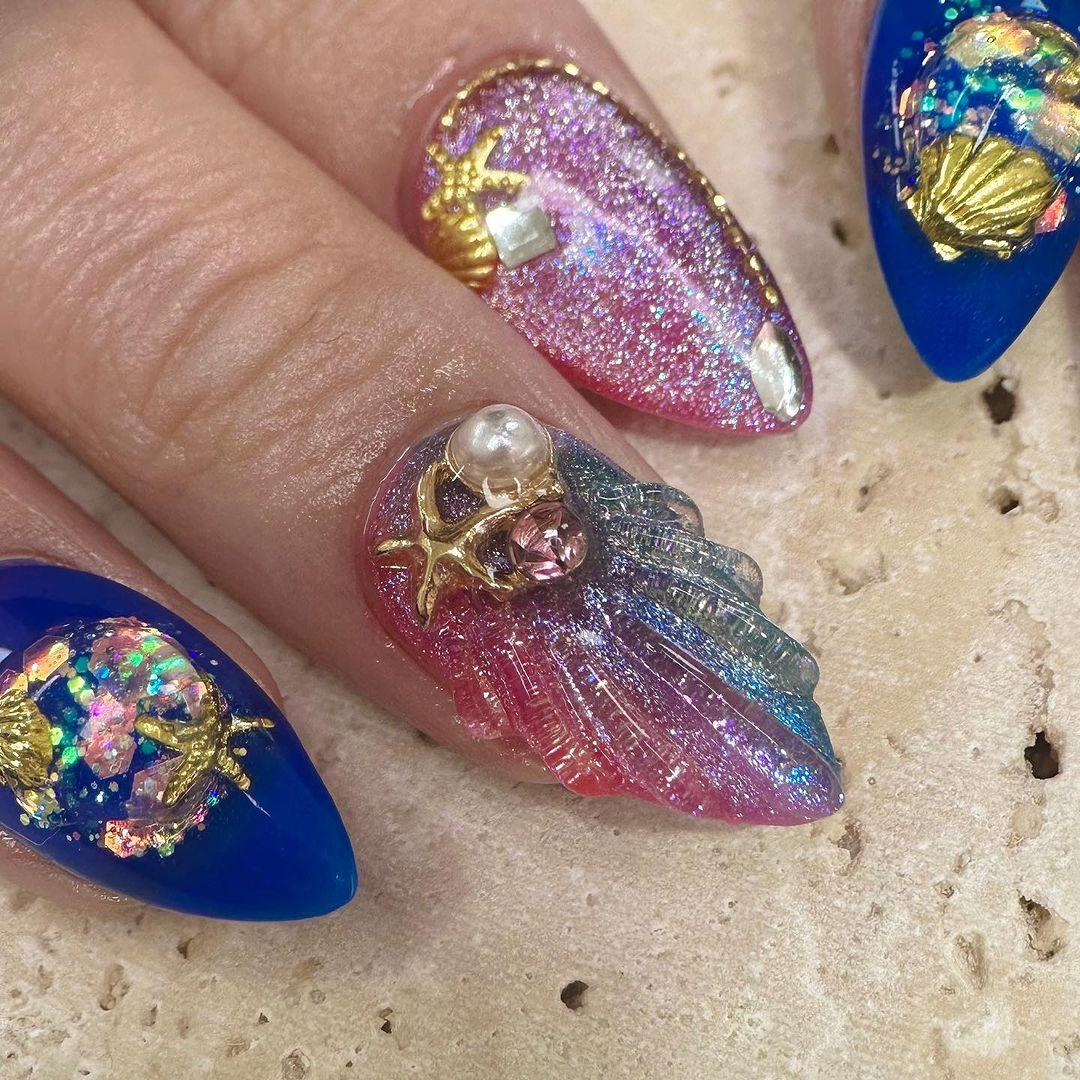nail: (357, 400, 845, 827), (0, 440, 358, 923), (395, 53, 814, 438), (858, 0, 1078, 382)
